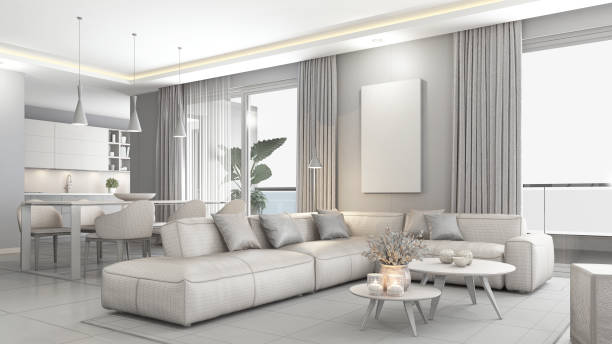dining table set: (14, 192, 247, 270)
flower vase: (363, 224, 423, 291)
small plant: (103, 176, 118, 193)
sofa: (99, 208, 556, 328)
table: (407, 256, 517, 323), (348, 279, 440, 337)
wall art: (357, 77, 425, 197)
